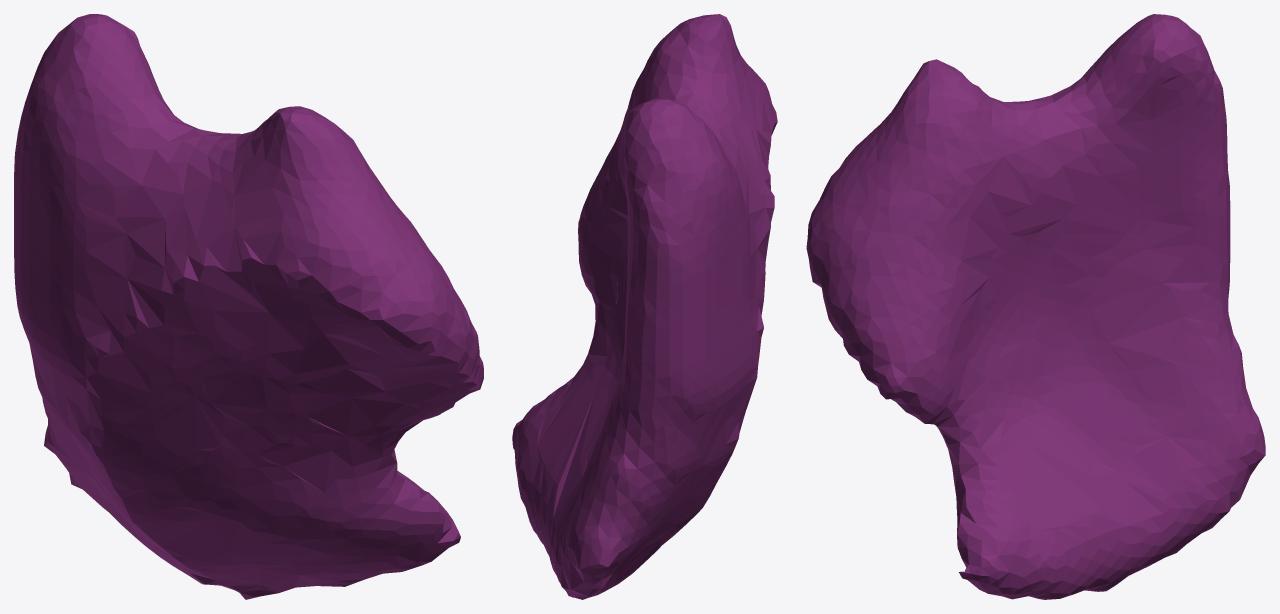
The model's file is Model_10453_LH__Deep_gray_layer_of_the_superior_colliculus_(DpG).obj.
The picture shows the model from 3 angles, left to right: view 1: azimuth 30°, elevation 25°; view 2: azimuth 150°, elevation 25°; view 3: azimuth 270°, elevation 25°; orthographic projection. The views are drawn at different scales.
Bounding box in the file's own units: 1.78 × 3.07 × 2.45.
